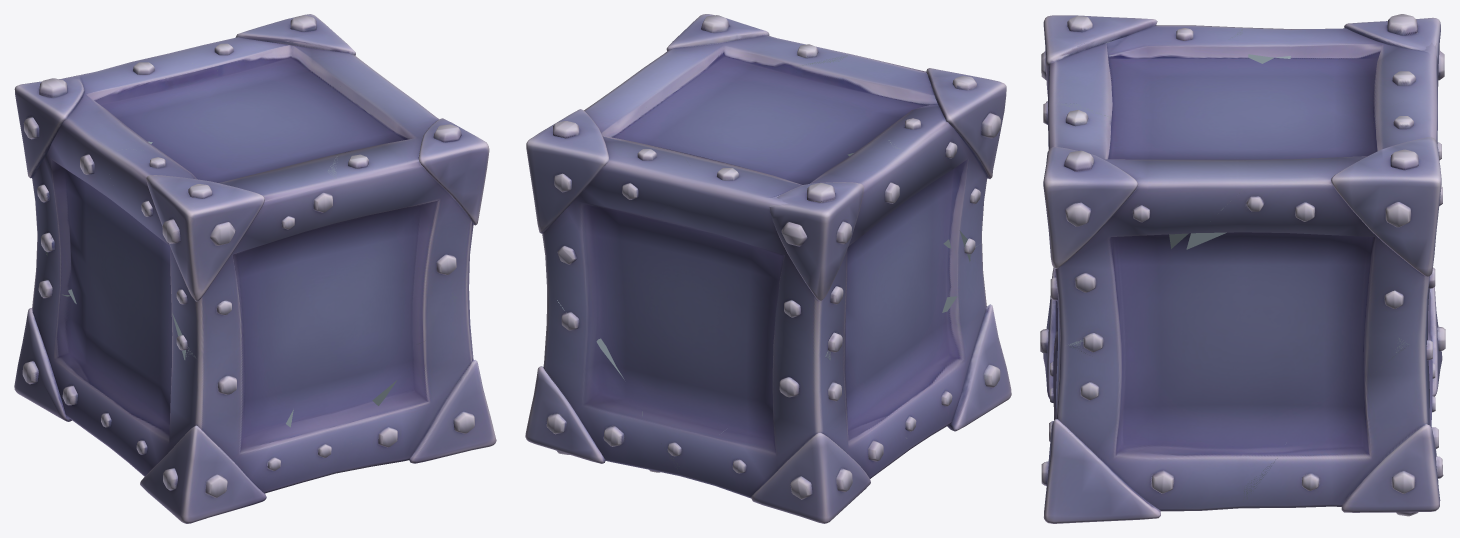
File: metal-fracture.glb
3 renders of one model, left to right at view 1: azimuth 30°, elevation 25°; view 2: azimuth 150°, elevation 25°; view 3: azimuth 270°, elevation 25°, orthographic. The views are drawn at different scales.
Parts seen in each view (by area): view 1: fragment_10, fragment_01, fragment_00, fragment_05, fragment_08, fragment_13, fragment_03, fragment_04, fragment_07, fragment_02; view 2: fragment_11, fragment_03, fragment_07, fragment_02, fragment_08, fragment_13, fragment_01, fragment_06, fragment_00, fragment_05; view 3: fragment_09, fragment_07, fragment_05, fragment_13, fragment_04, fragment_06, fragment_01, fragment_03, fragment_00, fragment_02.
Part boxes in pixels (<box>): fragment_10: <box>203,199,457,462</box>; fragment_01: <box>108,148,339,359</box>; fragment_00: <box>107,355,336,523</box>; fragment_05: <box>327,84,489,297</box>; fragment_08: <box>41,173,190,439</box>; fragment_13: <box>125,62,379,172</box>; fragment_03: <box>14,53,179,244</box>; fragment_04: <box>336,294,496,473</box>; fragment_07: <box>168,14,393,90</box>; fragment_02: <box>14,242,108,446</box>; fragment_11: <box>556,199,812,465</box>; fragment_03: <box>676,148,909,361</box>; fragment_07: <box>526,83,690,298</box>; fragment_02: <box>679,356,910,523</box>; fragment_08: <box>826,173,975,442</box>; fragment_13: <box>636,61,892,171</box>; fragment_01: <box>840,54,1006,247</box>; fragment_06: <box>525,296,679,475</box>; fragment_00: <box>910,242,1011,449</box>; fragment_05: <box>621,14,850,89</box>; fragment_09: <box>1079,190,1405,486</box>; fragment_07: <box>1243,101,1442,344</box>; fragment_05: <box>1043,103,1242,345</box>; fragment_13: <box>1077,34,1403,172</box>; fragment_04: <box>1041,340,1242,523</box>; fragment_06: <box>1243,339,1443,516</box>; fragment_01: <box>1041,15,1242,124</box>; fragment_03: <box>1243,14,1444,108</box>; fragment_00: <box>1040,267,1057,398</box>; fragment_02: <box>1428,287,1445,396</box>.
Bounding box in the file's own units: 1 × 1 × 1.
Materials: 2 (1 with a texture image).
